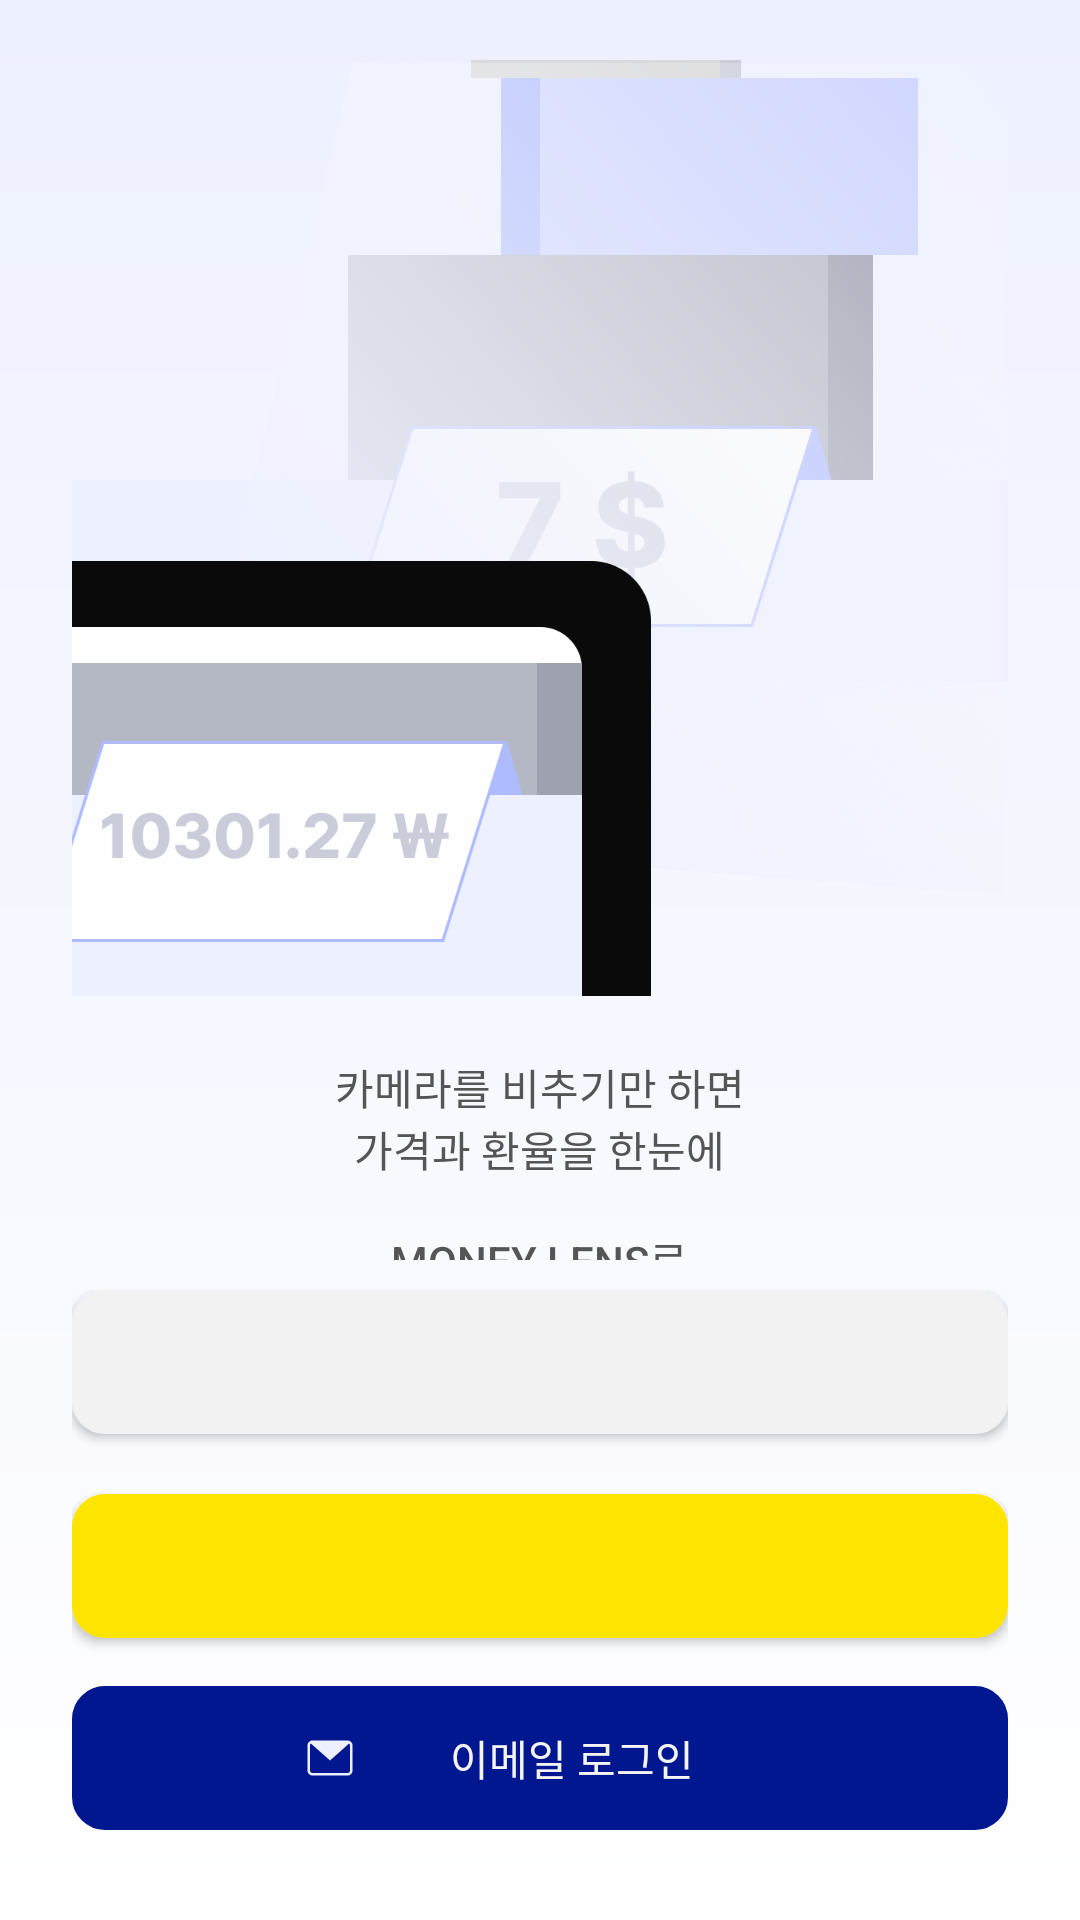

Icon click points for this 1080×1920 phone screenshot, format [x,y]:
mail: [330,1758]
